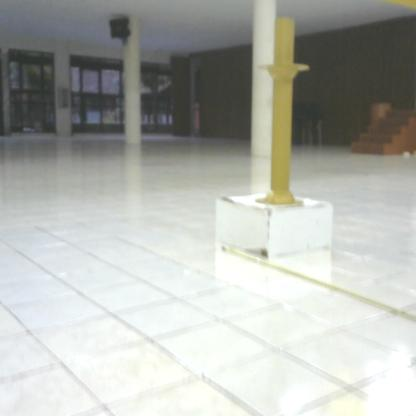pole: (250, 12, 313, 215)
